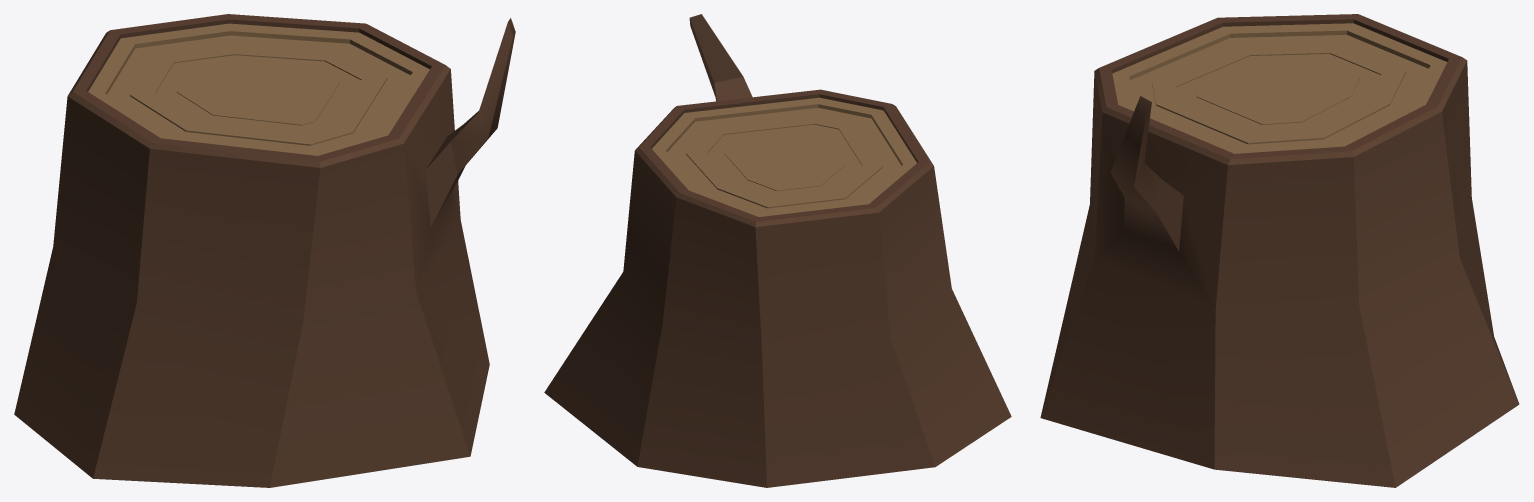
The model's file is Stumpf.fbx.
3 views of the same model, side by side, from view 1: azimuth 30°, elevation 25°; view 2: azimuth 150°, elevation 25°; view 3: azimuth 270°, elevation 25° (orthographic). The views are drawn at different scales.
Visible parts, largest first — view 1: Baumstumpf; view 2: Baumstumpf; view 3: Baumstumpf.
Boxes of the visible parts, left/top/right/bottom form: Baumstumpf: left=14, top=14, right=515, bottom=487; Baumstumpf: left=544, top=14, right=1011, bottom=487; Baumstumpf: left=1040, top=14, right=1519, bottom=487.
Bounding box in the file's own units: 293 × 232 × 276.
